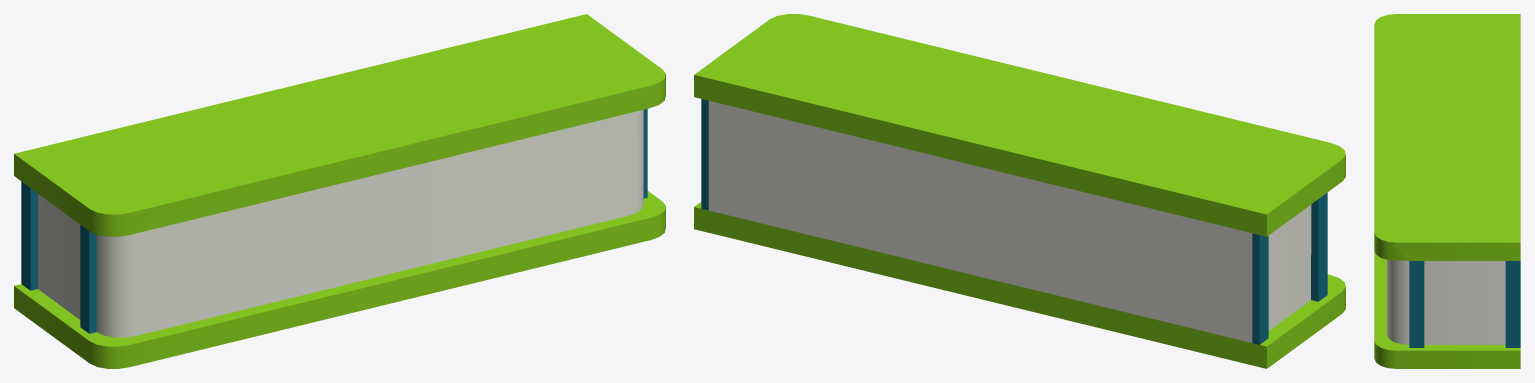
Rendered from TableB5-4_geo.fbx.
3 renders of one model, left to right at view 1: azimuth 30°, elevation 25°; view 2: azimuth 150°, elevation 25°; view 3: azimuth 270°, elevation 25°, orthographic. The views are drawn at different scales.
Visible parts, largest first — view 1: TableB4-4_geo; view 2: TableB4-4_geo; view 3: TableB4-4_geo.
Boxes of the visible parts, x1=… form: TableB4-4_geo: x1=14, y1=14, x2=665, y2=368; TableB4-4_geo: x1=694, y1=14, x2=1345, y2=368; TableB4-4_geo: x1=1374, y1=14, x2=1520, y2=368.
Bounding box in the file's own units: 2.64 × 0.7143 × 0.6803.
